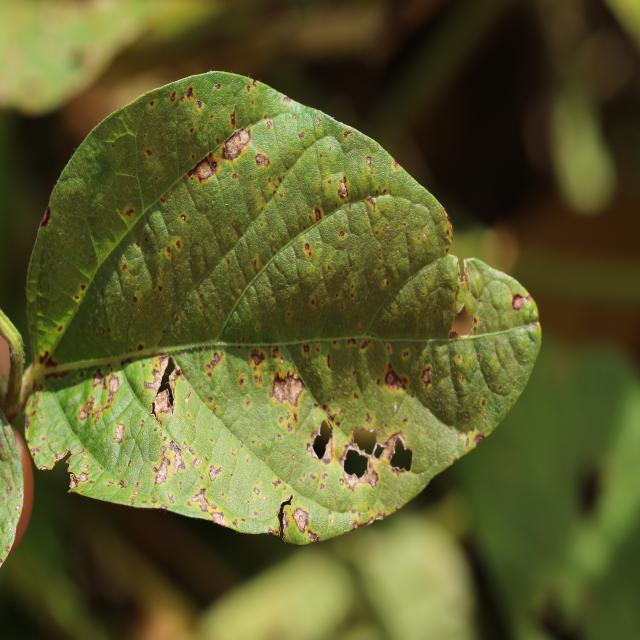Bacterial_Blight: (310, 374, 419, 489), (187, 125, 253, 188), (78, 371, 122, 427), (144, 358, 183, 420), (190, 485, 233, 527), (269, 369, 308, 408), (163, 82, 206, 115), (309, 421, 335, 463), (381, 360, 409, 393), (276, 494, 293, 542), (510, 291, 534, 316), (204, 351, 224, 375), (438, 201, 451, 232), (154, 459, 169, 485), (51, 448, 71, 467), (171, 447, 186, 472), (39, 351, 58, 369), (250, 350, 266, 367), (208, 463, 222, 482), (337, 177, 349, 199), (92, 368, 105, 388), (40, 205, 52, 226), (420, 366, 432, 387), (302, 242, 313, 260), (68, 473, 79, 490), (473, 432, 485, 446), (366, 196, 377, 210), (314, 208, 323, 223), (230, 109, 236, 128), (361, 339, 371, 350), (325, 353, 332, 368), (342, 129, 353, 138), (169, 90, 176, 103), (124, 208, 134, 217), (455, 353, 463, 364), (365, 155, 372, 167), (144, 148, 153, 157), (392, 160, 400, 170), (121, 262, 128, 273), (137, 343, 145, 352), (213, 82, 222, 90), (303, 344, 310, 354), (299, 131, 306, 140), (339, 230, 346, 239), (266, 120, 273, 129), (79, 283, 86, 291), (176, 239, 181, 249), (180, 214, 186, 222), (459, 375, 465, 383), (57, 325, 63, 333), (149, 100, 155, 108), (158, 284, 163, 292), (133, 295, 138, 303)
Soybean: (25, 72, 541, 543)
